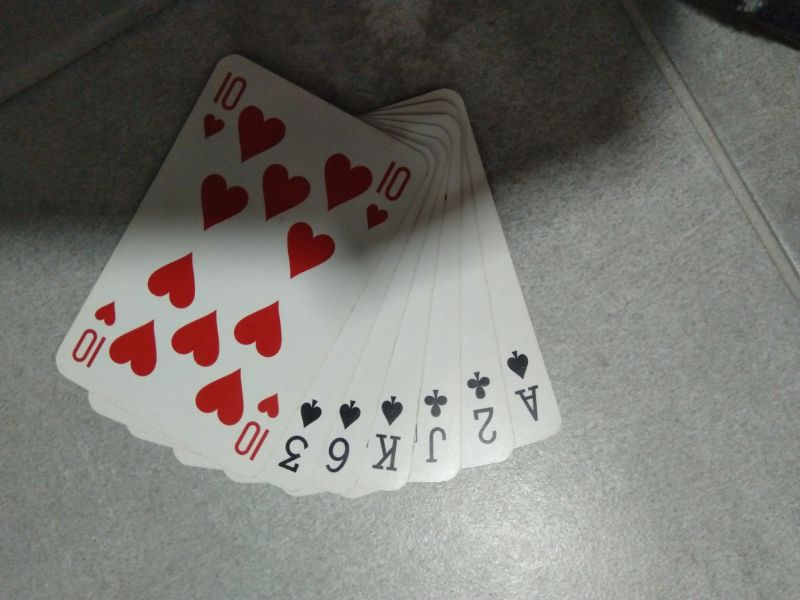2c: (459, 367, 511, 456)
3s: (278, 393, 327, 482)
6s: (326, 397, 364, 482)
As: (499, 345, 554, 434)
Jc: (415, 384, 461, 474)
Ks: (366, 389, 414, 486)
Th: (359, 155, 424, 234), (193, 64, 252, 148), (67, 297, 124, 382), (224, 386, 282, 468)
